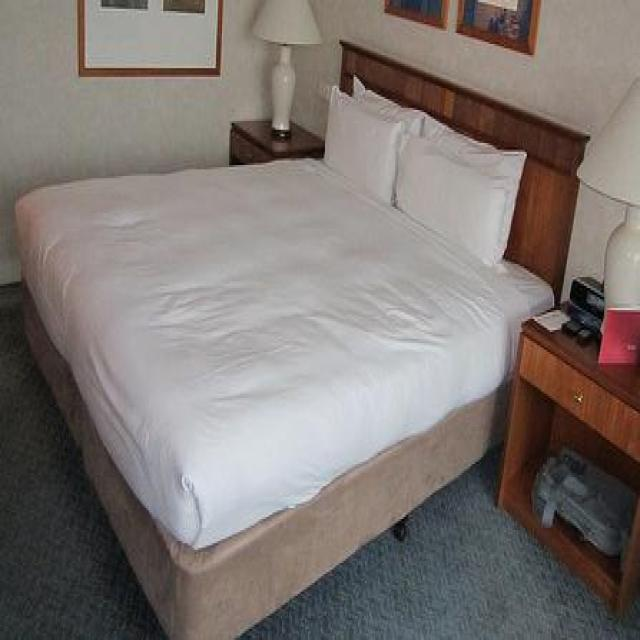bed: (13, 37, 590, 638)
